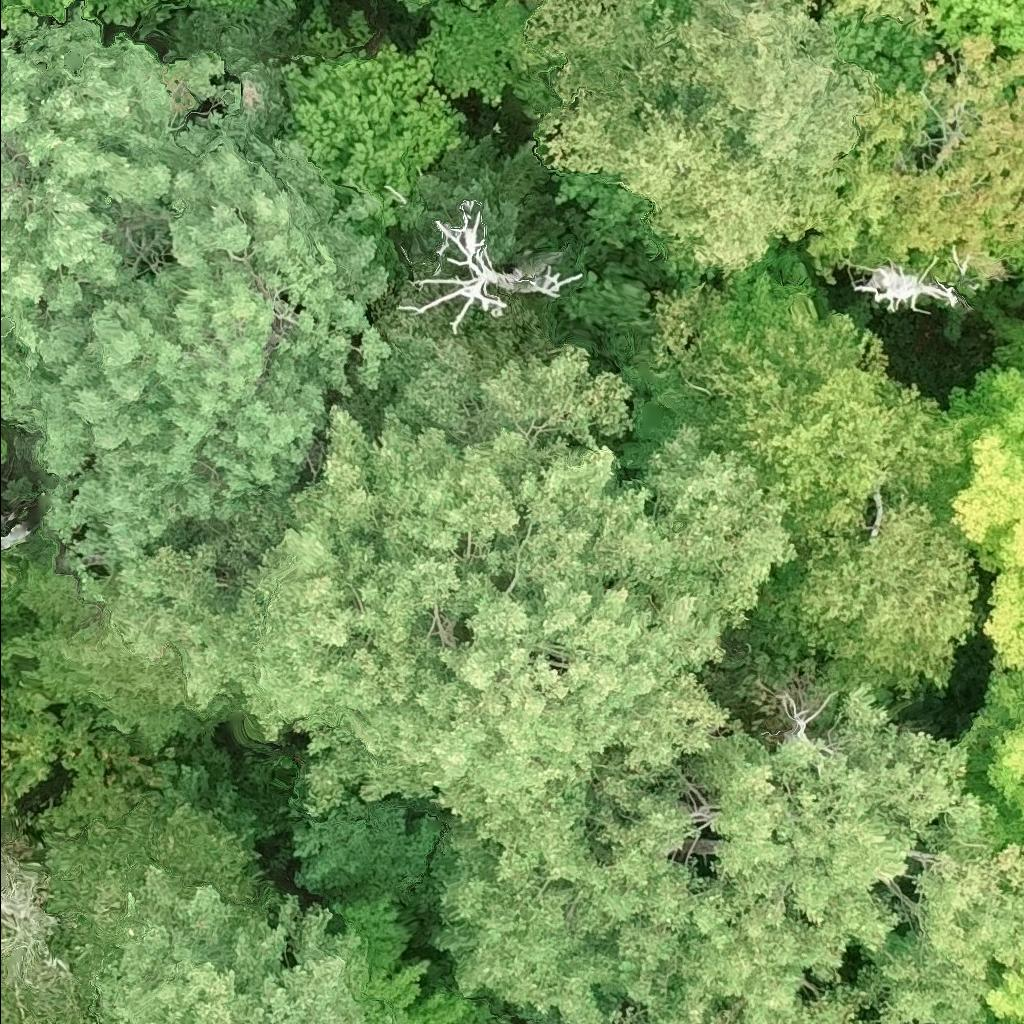crown: (105, 328, 802, 887), (434, 680, 1023, 1023), (0, 125, 389, 565), (523, 0, 883, 283), (0, 0, 243, 418), (649, 252, 972, 554), (39, 755, 282, 1007), (813, 30, 1023, 288), (758, 493, 979, 708), (1, 564, 244, 749), (93, 870, 368, 1023), (282, 41, 467, 227), (408, 199, 571, 331), (177, 4, 329, 145), (0, 835, 103, 1023), (331, 890, 476, 1023), (402, 0, 554, 122), (950, 429, 1023, 667), (956, 648, 1023, 850), (952, 319, 1023, 455), (853, 263, 960, 311), (933, 0, 1023, 50), (446, 981, 547, 1023), (980, 933, 1023, 1023), (832, 0, 936, 27), (0, 0, 65, 38), (174, 0, 293, 16), (79, 0, 143, 27), (0, 689, 10, 810), (0, 545, 20, 589), (1010, 232, 1023, 269), (133, 0, 166, 12), (388, 1018, 397, 1023), (1021, 72, 1023, 85)
